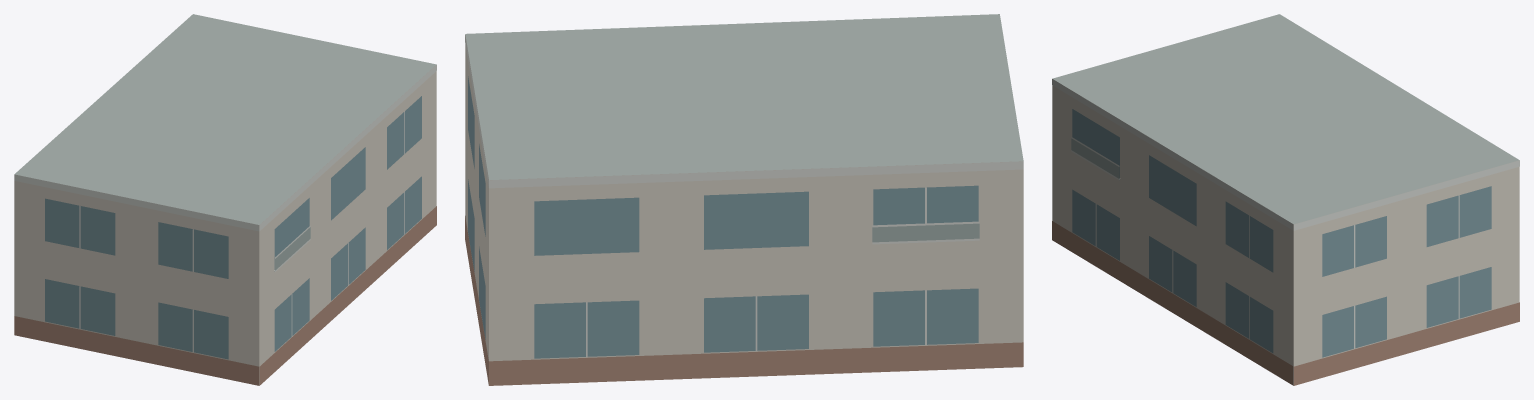
The model's file is survey-upis-32526391.glb.
The picture shows the model from 3 angles, left to right: view 1: azimuth 30°, elevation 25°; view 2: azimuth 150°, elevation 25°; view 3: azimuth 270°, elevation 25°; orthographic projection. The views are drawn at different scales.
Visible parts, largest first — view 1: survey-upis-32526391.tmp; view 2: survey-upis-32526391.tmp; view 3: survey-upis-32526391.tmp.
Boxes of the visible parts, x1,y1,x2,y2 form: survey-upis-32526391.tmp: [14, 14, 436, 385]; survey-upis-32526391.tmp: [465, 14, 1023, 385]; survey-upis-32526391.tmp: [1052, 14, 1519, 385].
Size of the model in its own units: 17.06 by 6.1 by 16.02.
